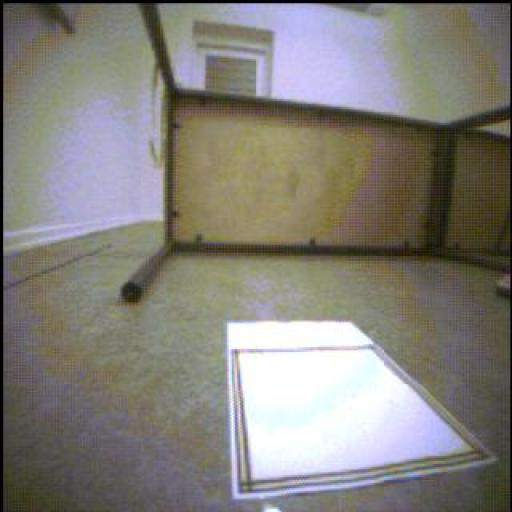Pad: (225, 318, 490, 499)
